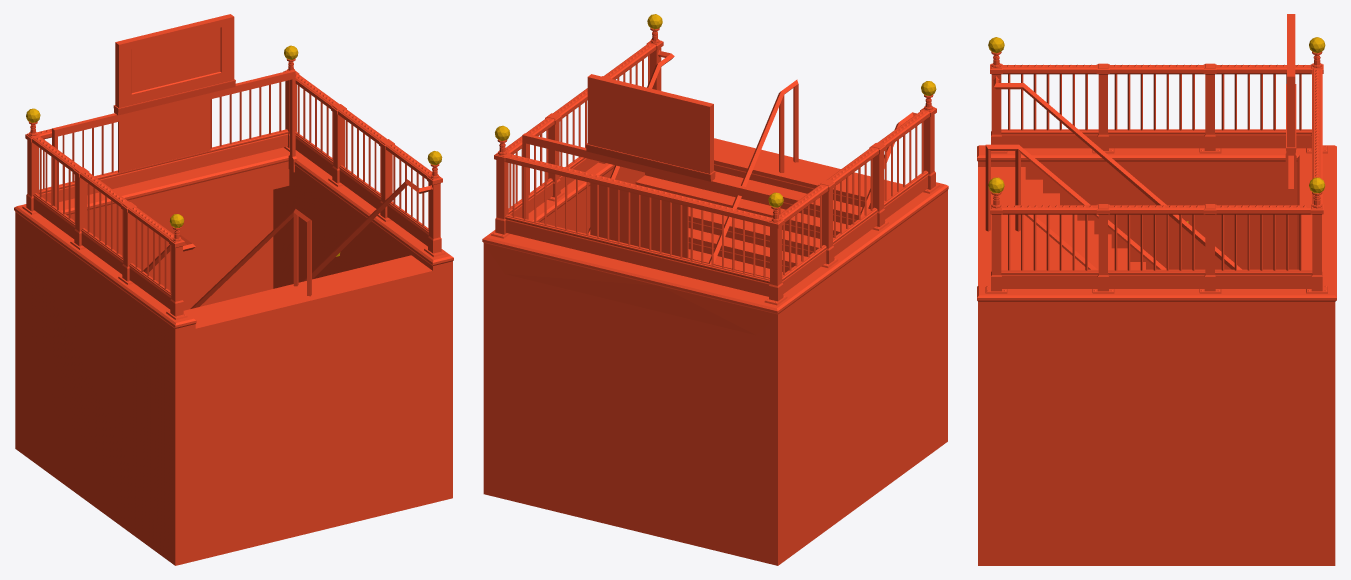
The model's file is SM_Subway_B_City.fbx.
The picture shows the model from 3 angles, left to right: view 1: azimuth 30°, elevation 25°; view 2: azimuth 150°, elevation 25°; view 3: azimuth 270°, elevation 25°; orthographic projection. The views are drawn at different scales.
Parts seen in each view (by area): view 1: SM_Subway_B_City; view 2: SM_Subway_B_City; view 3: SM_Subway_B_City.
Boxes of the visible parts, x1=… form: SM_Subway_B_City: x1=14, y1=14, x2=453, y2=565; SM_Subway_B_City: x1=482, y1=14, x2=948, y2=565; SM_Subway_B_City: x1=977, y1=14, x2=1336, y2=565.
Size of the model in its own units: 5.02 by 6.88 by 5.04.
